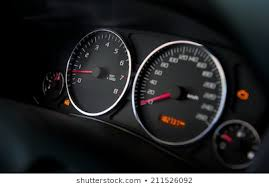Digital_Meter: (154, 114, 190, 127)
